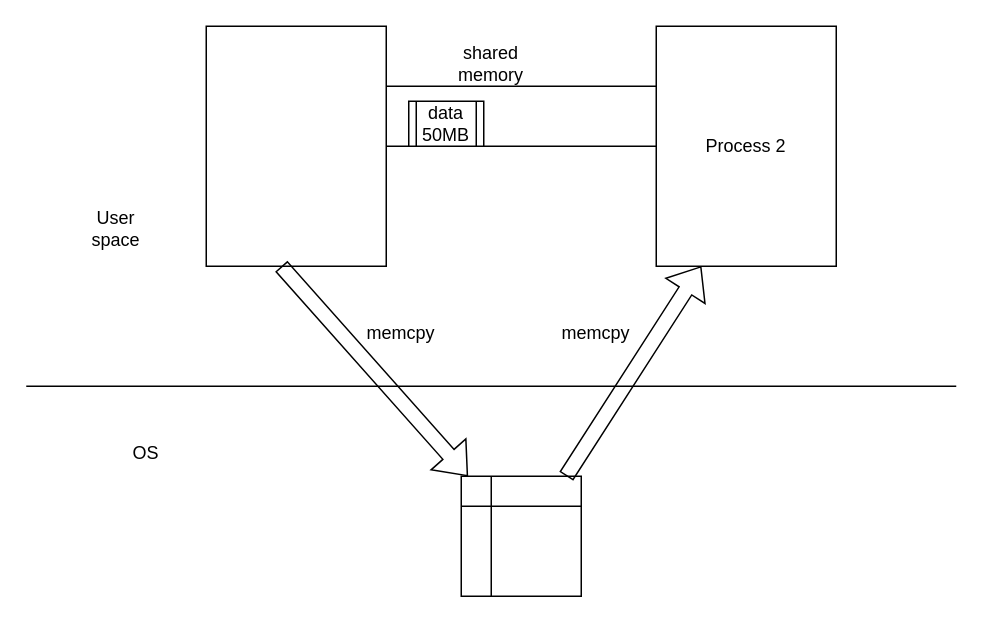
Image size: 984x623. Some labels were removed from this diagram. Each missing label, with the box of its shape:
Process 1: (205, 25, 386, 266)
queue: (460, 475, 581, 596)
